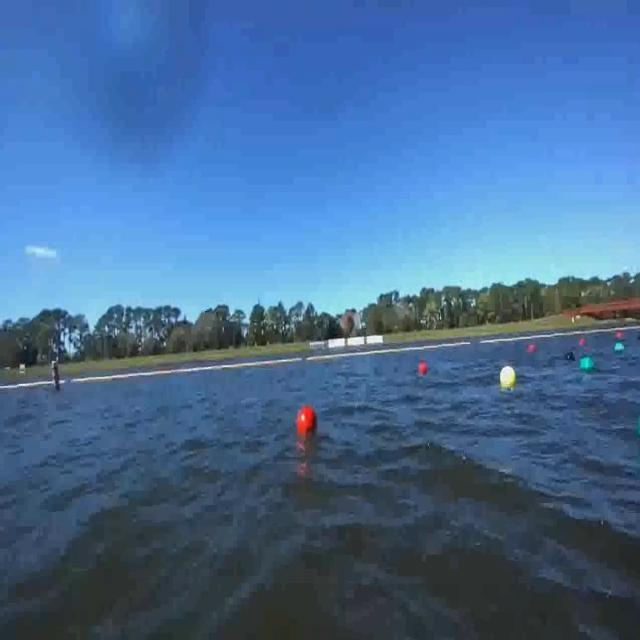black-buoy: (564, 350, 575, 361)
green-buoy: (578, 357, 594, 373), (615, 343, 626, 355)
red-buoy: (296, 407, 314, 438), (419, 360, 429, 376), (528, 345, 537, 353)
yellow-buoy: (500, 365, 516, 388)
